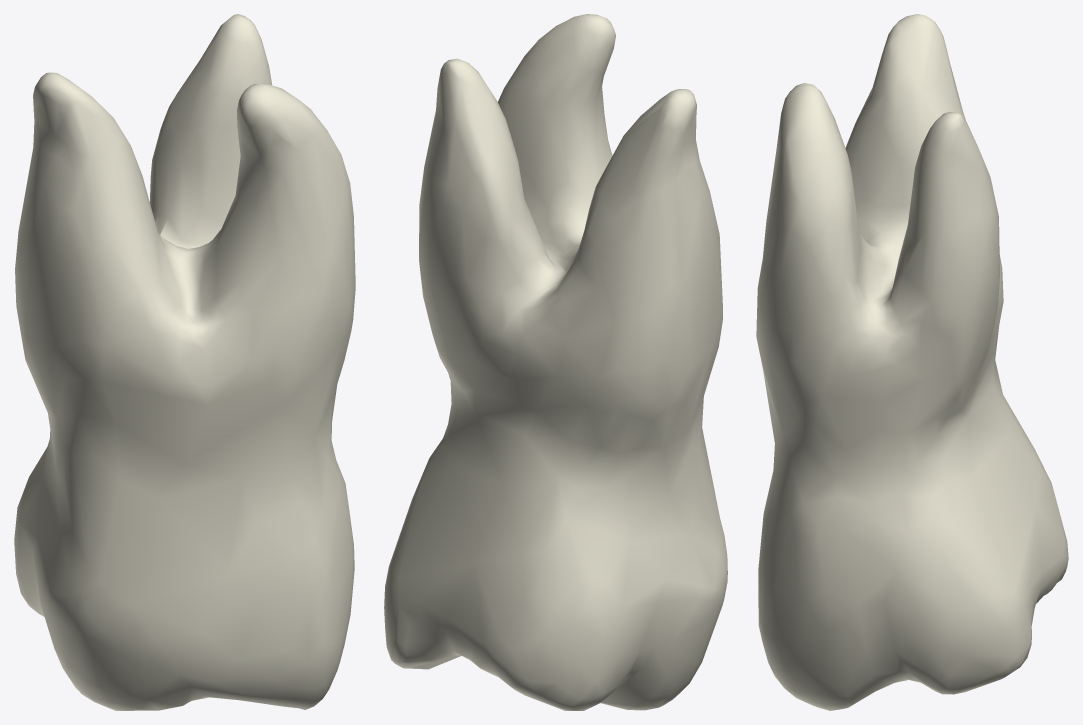
The model's file is Left first upper molar tooth.fbx.
3 renders of one model, left to right at view 1: azimuth 30°, elevation 25°; view 2: azimuth 150°, elevation 25°; view 3: azimuth 270°, elevation 25°, orthographic. The views are drawn at different scales.
Parts seen in each view (by area): view 1: Left first upper molar tooth; view 2: Left first upper molar tooth; view 3: Left first upper molar tooth.
Boxes of the visible parts, left/top/right/bottom form: Left first upper molar tooth: left=14, top=14, right=355, bottom=710; Left first upper molar tooth: left=384, top=14, right=727, bottom=710; Left first upper molar tooth: left=756, top=14, right=1068, bottom=710.
Size of the model in its own units: 1.54 by 3.27 by 1.54.
